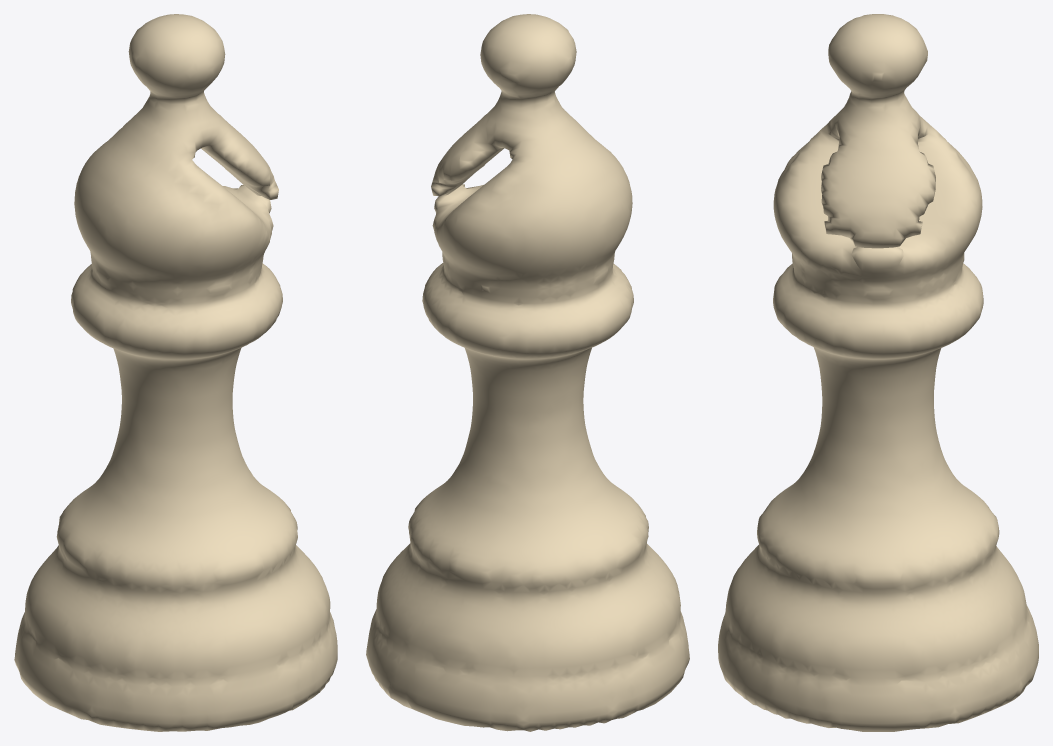
Rendered from KFB_Chess_bishop_light.r1.glb.
3 views of the same model, side by side, from view 1: azimuth 30°, elevation 25°; view 2: azimuth 150°, elevation 25°; view 3: azimuth 270°, elevation 25° (orthographic).
Visible parts, largest first — view 1: KFB_Chess_bishop_light; view 2: KFB_Chess_bishop_light; view 3: KFB_Chess_bishop_light.
Part boxes in pixels (x1,y1,x2,y2): KFB_Chess_bishop_light: [14, 14, 337, 731]; KFB_Chess_bishop_light: [366, 14, 689, 731]; KFB_Chess_bishop_light: [718, 14, 1038, 731].
Bounding box in the file's own units: 2.36 × 5.23 × 2.36.
